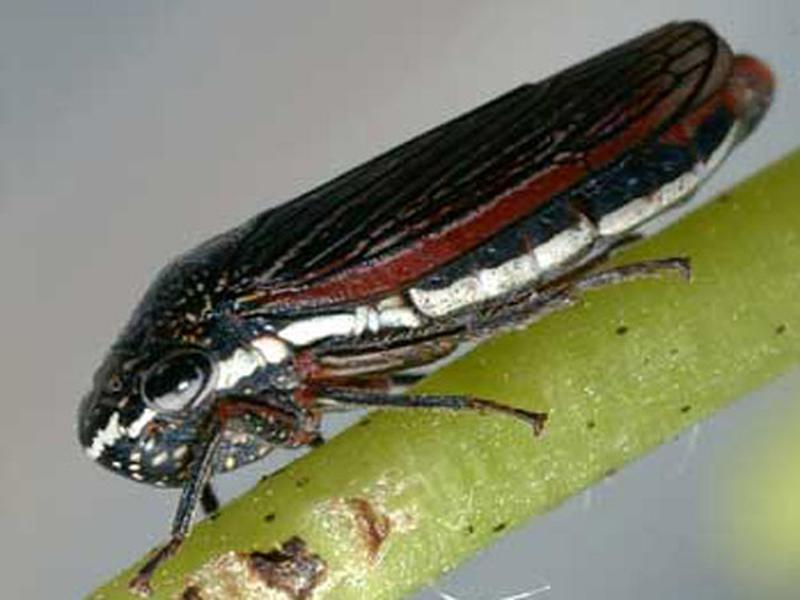Brown_plant_leafhopper: (73, 24, 783, 493)
